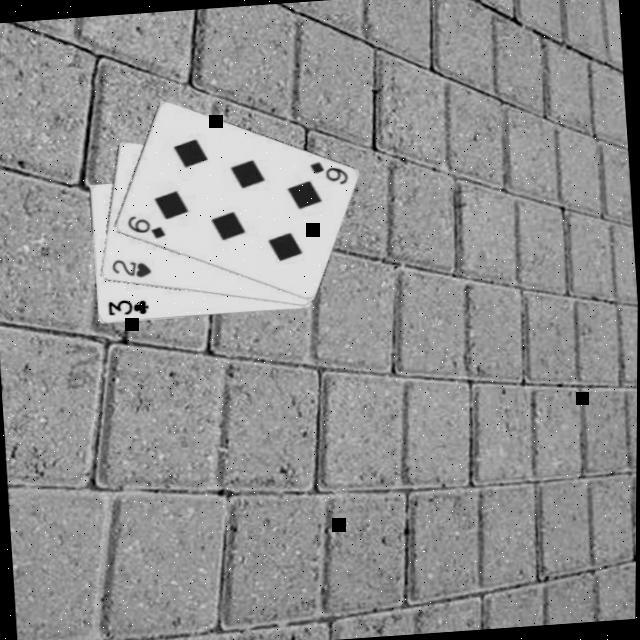2H: (110, 252, 158, 281)
3C: (106, 292, 153, 318)
6D: (124, 208, 170, 242), (308, 154, 352, 188)
